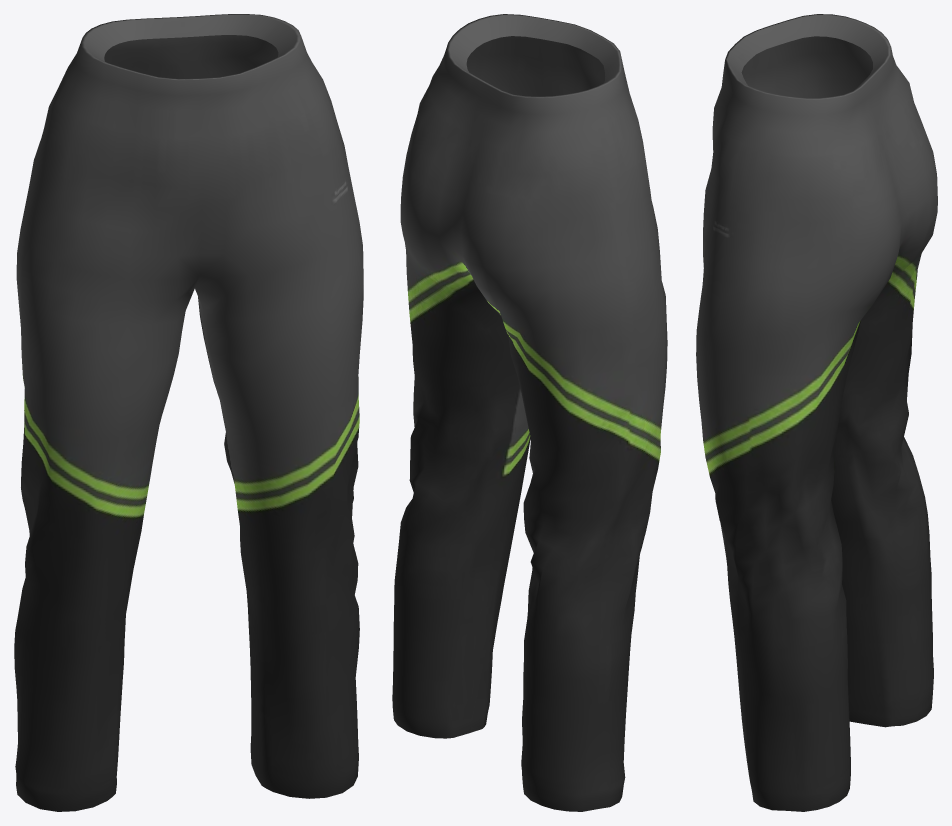
File: pants-mujer-franjas-lima-lite.glb
3 renders of one model, left to right at view 1: azimuth 30°, elevation 25°; view 2: azimuth 150°, elevation 25°; view 3: azimuth 270°, elevation 25°, orthographic. The views are drawn at different scales.
Visible parts, largest first — view 1: F_sweatpants_lowpoly_defaultPolygonShader_0; view 2: F_sweatpants_lowpoly_defaultPolygonShader_0; view 3: F_sweatpants_lowpoly_defaultPolygonShader_0.
Part boxes in pixels (x1,y1,x2,y2): F_sweatpants_lowpoly_defaultPolygonShader_0: (14, 14, 363, 811); F_sweatpants_lowpoly_defaultPolygonShader_0: (392, 14, 667, 811); F_sweatpants_lowpoly_defaultPolygonShader_0: (696, 14, 937, 811).
Bounding box in the file's own units: 0.4132 × 1 × 0.316.
1 material, 1 textured.
